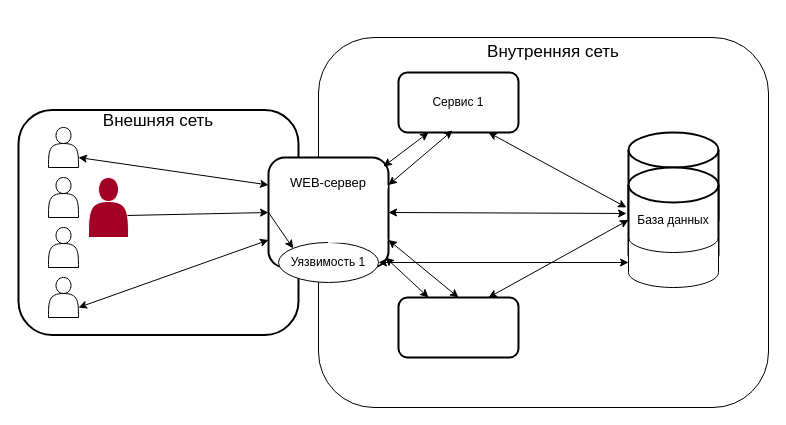
The diagram is 786 pixels wide and 425 high, and some of its shapes have lost their labels. Each missing label, with the box of its shape:
Сервис 2: (397, 296, 519, 358)
Уязвимость 2: (628, 236, 718, 288)
